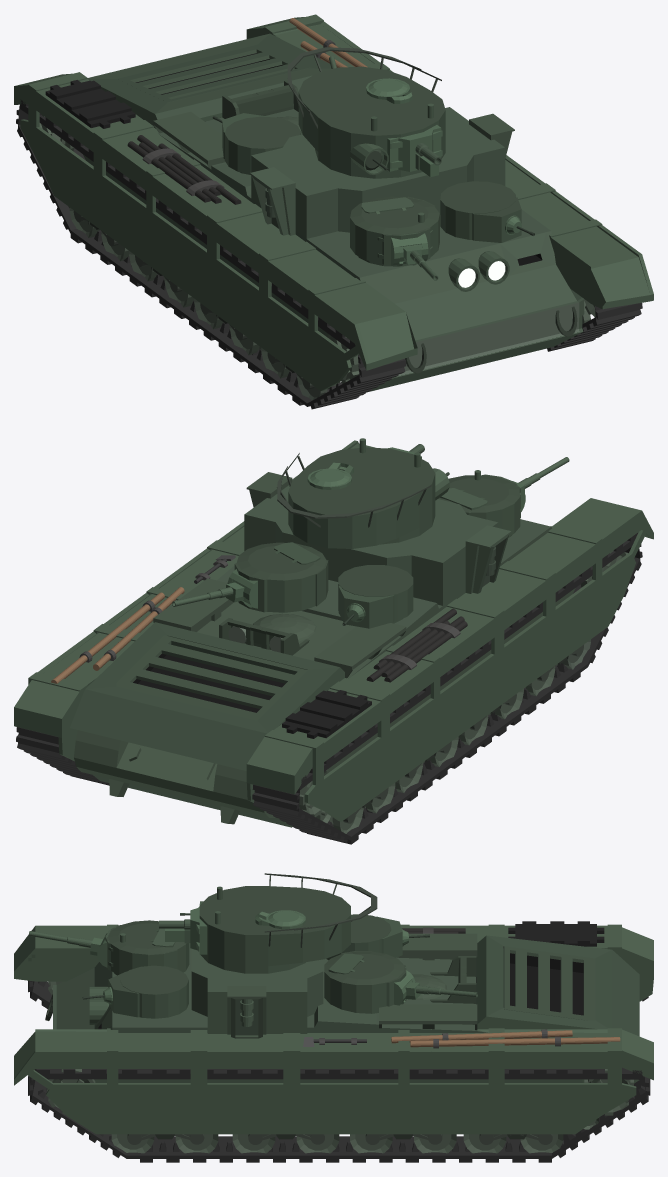
3 views of the same model, one above another, from view 1: azimuth 30°, elevation 25°; view 2: azimuth 150°, elevation 25°; view 3: azimuth 270°, elevation 25° (orthographic). The views are drawn at different scales.
Visible parts, largest first — view 1: cuboid_76, cuboid_79, cuboid_75, cuboid_96, cylinder_131, cuboid_1, cuboid_81, cuboid_82, cylinder_98, cylinder_117, cylinder_124, cuboid_164 (+16 smaller); view 2: cuboid_76, cuboid_81, cylinder_131, cuboid_1, cuboid_96, cuboid_75, cylinder_80, cuboid_82, cuboid_79, cylinder_109, cylinder_98, cuboid_164 (+15 smaller); view 3: cuboid_75, cuboid_2, cylinder_131, cuboid_81, cuboid_79, cuboid_76, cuboid_96, cuboid_82, cylinder_109, cylinder_98, cylinder_117, cuboid_83 (+24 smaller).
Boxes of the visible parts, x1,y1,x2,y2 form: cuboid_76: [14, 72, 417, 390]; cuboid_79: [83, 109, 584, 392]; cuboid_75: [246, 14, 653, 309]; cuboid_96: [251, 107, 505, 238]; cylinder_131: [298, 66, 445, 178]; cuboid_1: [16, 99, 406, 409]; cuboid_81: [87, 33, 337, 128]; cuboid_82: [117, 44, 310, 102]; cylinder_98: [350, 196, 439, 266]; cylinder_117: [440, 181, 515, 239]; cylinder_124: [224, 116, 301, 174]; cuboid_164: [45, 80, 135, 128]; cuboid_76: [246, 498, 653, 821]; cuboid_81: [70, 622, 344, 770]; cylinder_131: [288, 447, 435, 548]; cuboid_1: [252, 532, 642, 844]; cuboid_96: [244, 475, 498, 608]; cuboid_75: [14, 440, 375, 761]; cylinder_80: [74, 730, 275, 824]; cuboid_82: [116, 635, 307, 720]; cuboid_79: [93, 519, 575, 827]; cylinder_109: [234, 542, 328, 612]; cylinder_98: [438, 474, 520, 537]; cuboid_164: [282, 690, 371, 738]; cuboid_75: [14, 1028, 653, 1134]; cuboid_2: [28, 1067, 650, 1162]; cylinder_131: [199, 886, 350, 973]; cuboid_81: [476, 935, 639, 1036]; cuboid_79: [53, 943, 582, 1082]; cuboid_76: [14, 924, 653, 1001]; cuboid_96: [191, 949, 323, 1033]; cuboid_82: [503, 946, 595, 1020]; cylinder_109: [324, 951, 406, 1013]; cylinder_98: [105, 920, 189, 975]; cylinder_117: [120, 965, 188, 1018]; cuboid_83: [379, 1004, 477, 1030].
Size of the model in its own units: 5.25 by 3.95 by 11.25.
Materials: 4 (4 with a texture image).
